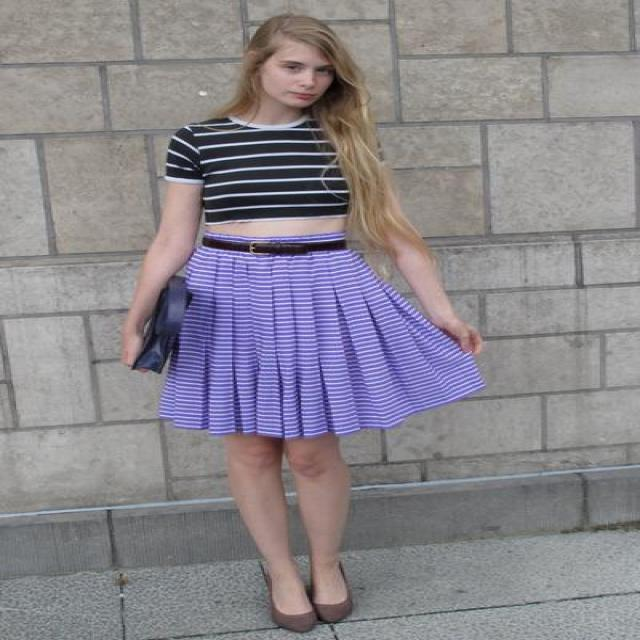shirt: (133, 104, 349, 221)
skirt: (162, 246, 483, 437)
sunglass: (112, 304, 205, 419)
